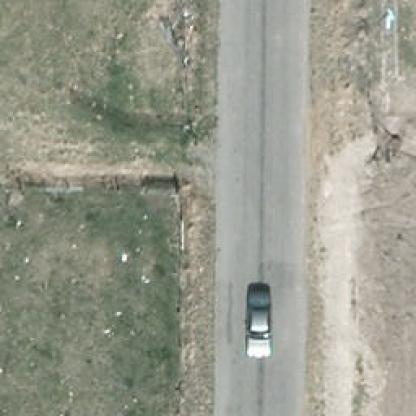car: (242, 283, 272, 358)
